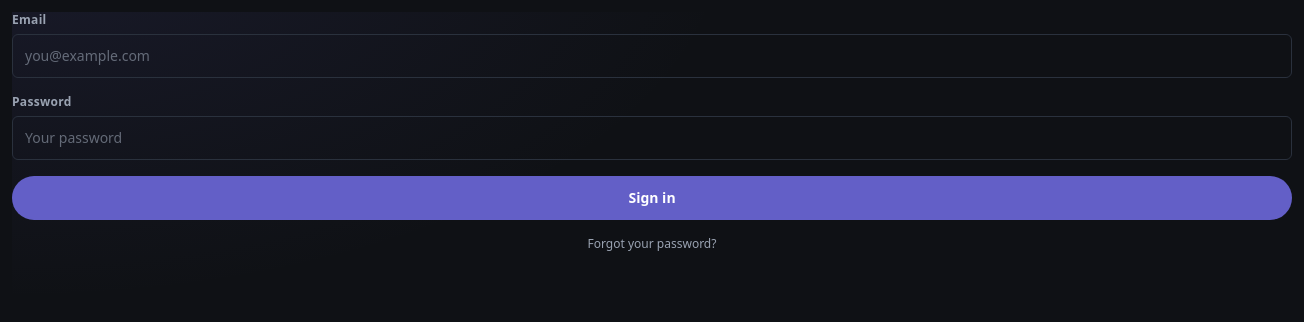
LoginForm › shows a generic error and does not redirect on failure
Type "user@example.com" into the field labelled "Email" at (652, 56), box [12,34,1292,78]
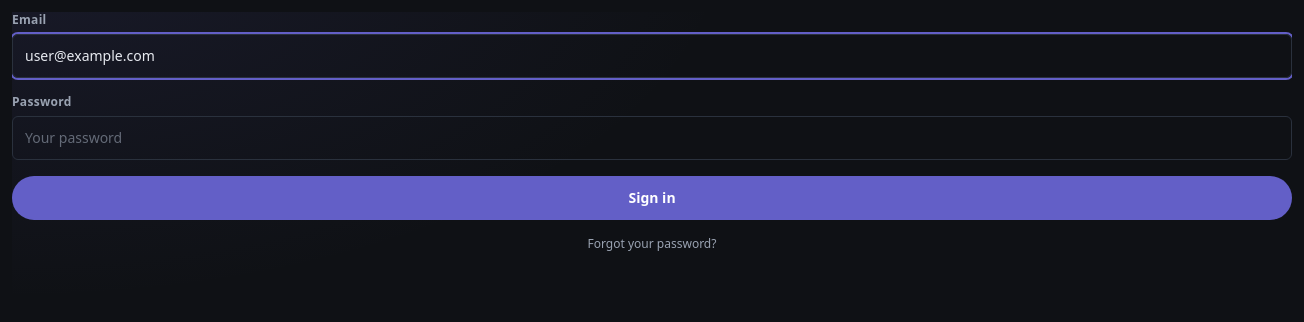
Type "wrong-password" into the password field labelled "Password" at (652, 138), box [12,116,1292,160]
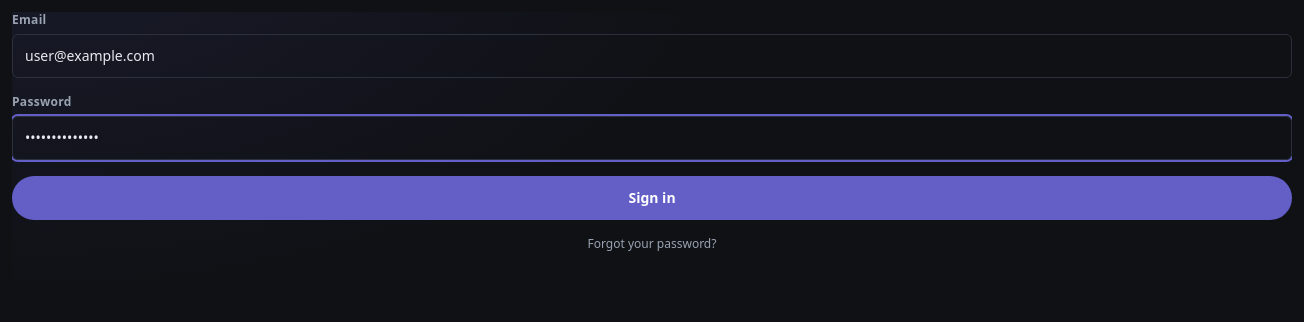
Click the button "Sign in" at (652, 198), box [12,176,1292,220]
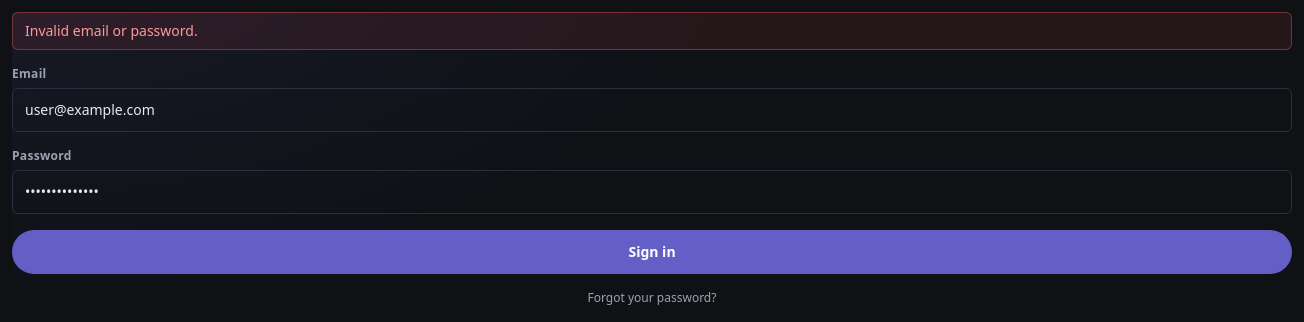
Now the message shows "Invalid email or password", box [25,21,198,40]
